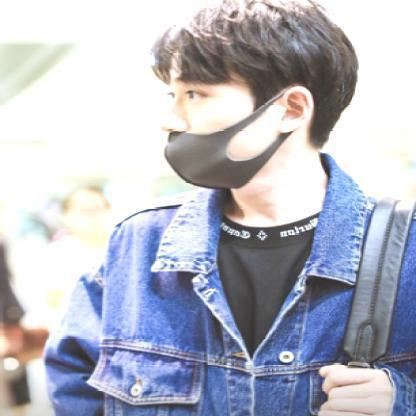mask_weared_incorrect: (159, 74, 273, 188)
